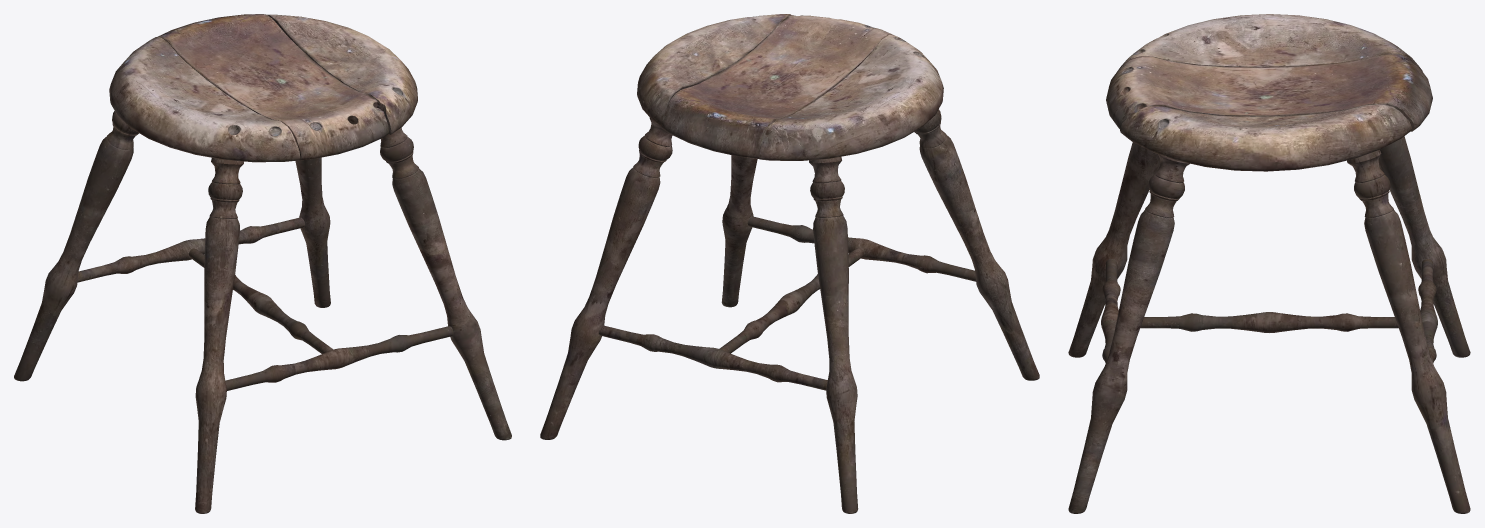
File: wooden_stool_01.optimized.glb
3 renders of one model, left to right at view 1: azimuth 30°, elevation 25°; view 2: azimuth 150°, elevation 25°; view 3: azimuth 270°, elevation 25°, orthographic. The views are drawn at different scales.
Visible parts, largest first — view 1: wooden_stool_01; view 2: wooden_stool_01; view 3: wooden_stool_01.
Part boxes in pixels (x1,y1,x2,y2): wooden_stool_01: (14,14,511,513); wooden_stool_01: (540,14,1039,513); wooden_stool_01: (1068,14,1470,513).
Bounding box in the file's own units: 0.4254 × 0.4373 × 0.4424.
Materials: 1 (1 with a texture image).
